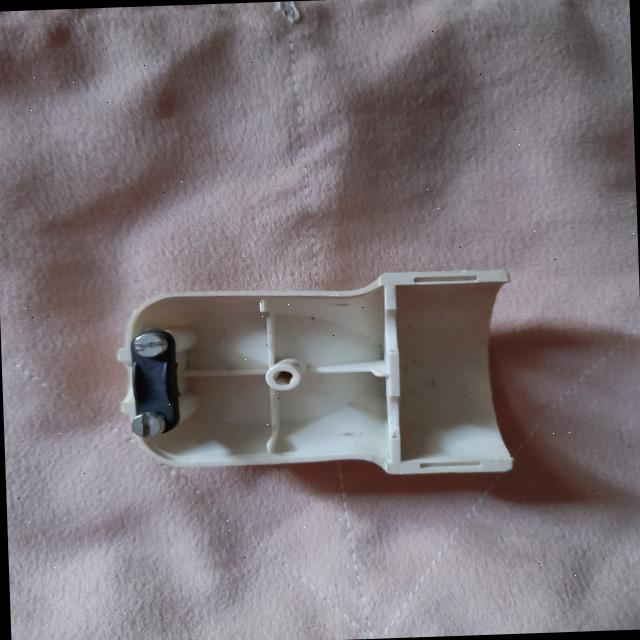Slotted: (128, 410, 162, 438), (132, 330, 165, 358)
